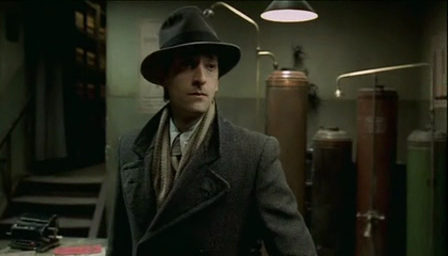face: (175, 53, 219, 114)
mcu: (1, 1, 448, 256)
person: (105, 5, 318, 256)
